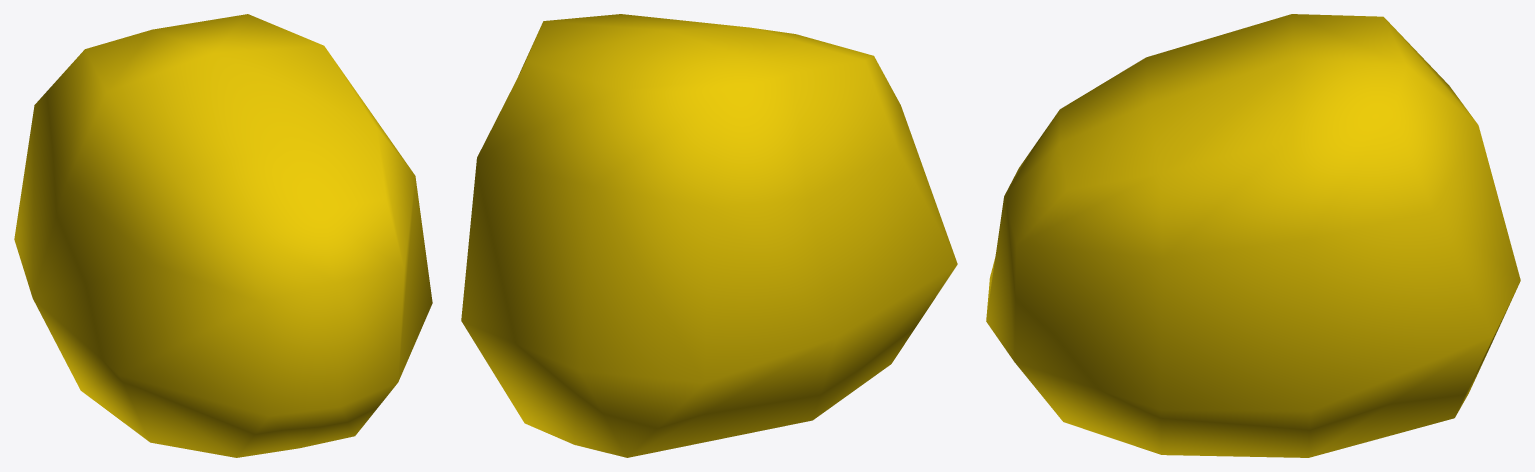
The model's file is Rock_Small_05_Lod1.fbx.
3 views of the same model, side by side, from view 1: azimuth 30°, elevation 25°; view 2: azimuth 150°, elevation 25°; view 3: azimuth 270°, elevation 25° (orthographic). The views are drawn at different scales.
Parts seen in each view (by area): view 1: Rock_Small_05_Lod1; view 2: Rock_Small_05_Lod1; view 3: Rock_Small_05_Lod1.
Part boxes in pixels (x1,y1,x2,y2): Rock_Small_05_Lod1: (14, 14, 432, 457); Rock_Small_05_Lod1: (461, 14, 957, 457); Rock_Small_05_Lod1: (986, 14, 1520, 457).
Bounding box in the file's own units: 447 × 439 × 570.
